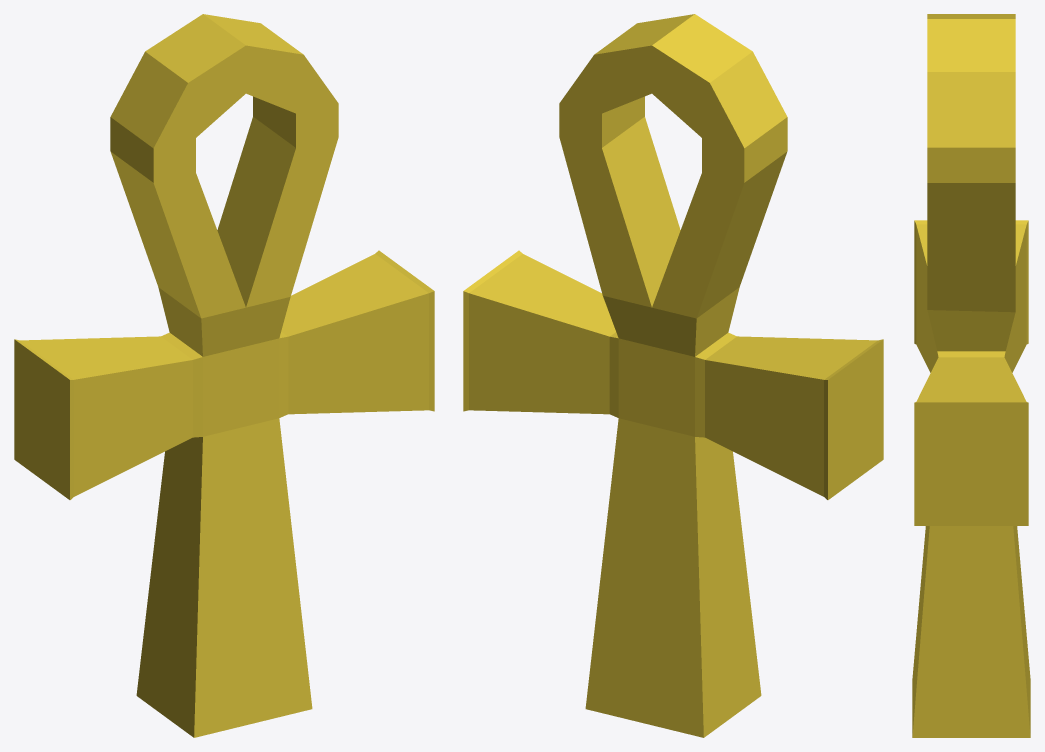
Rendered from Mesh_Ankh.glb.
3 renders of one model, left to right at view 1: azimuth 30°, elevation 25°; view 2: azimuth 150°, elevation 25°; view 3: azimuth 270°, elevation 25°, orthographic. The views are drawn at different scales.
Parts seen in each view (by area): view 1: Cube.022; view 2: Cube.022; view 3: Cube.022.
Boxes of the visible parts, <box> form: Cube.022: <box>14,14,434,737</box>; Cube.022: <box>463,14,883,737</box>; Cube.022: <box>912,14,1030,737</box>.
Size of the model in its own units: 1.39 by 2.45 by 0.3797.
